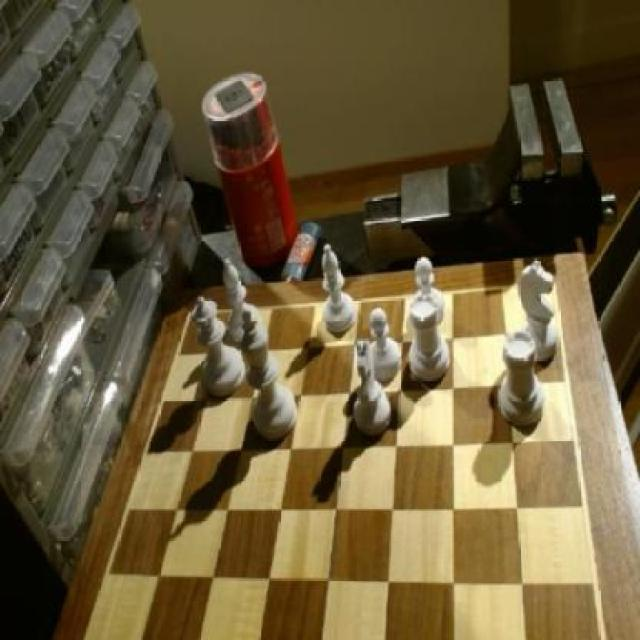black-rook: (315, 246, 358, 337), (223, 255, 258, 348)
white-bishop: (242, 308, 298, 448)
white-king: (519, 258, 563, 364), (352, 342, 393, 436)
white-knight: (369, 307, 405, 378), (416, 257, 446, 318)
white-pawn: (192, 294, 245, 401)
white-queen: (497, 328, 546, 435), (409, 297, 454, 386)
